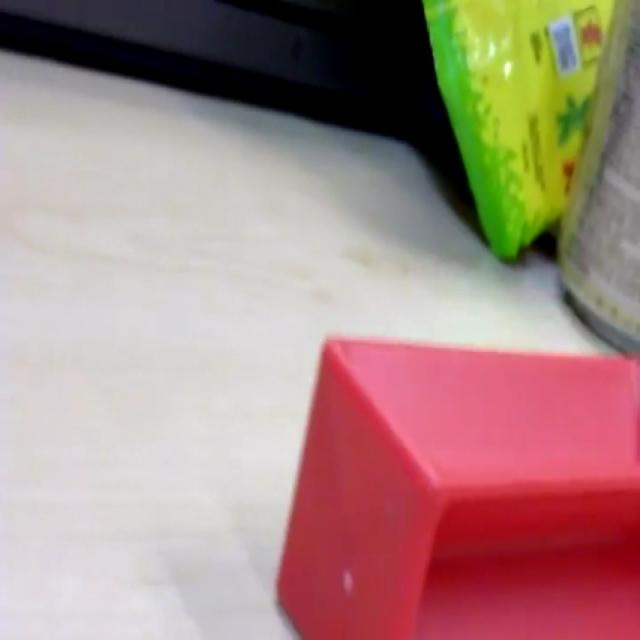red_block: (274, 329, 638, 636)
